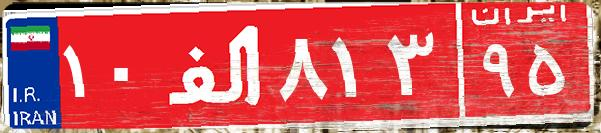0: (110, 28, 158, 105)
1: (330, 28, 385, 110), (57, 26, 110, 107)
3: (385, 28, 445, 110)
5: (525, 38, 570, 115)
8: (273, 28, 330, 110)
9: (475, 38, 525, 113)
الف: (158, 15, 273, 115)
